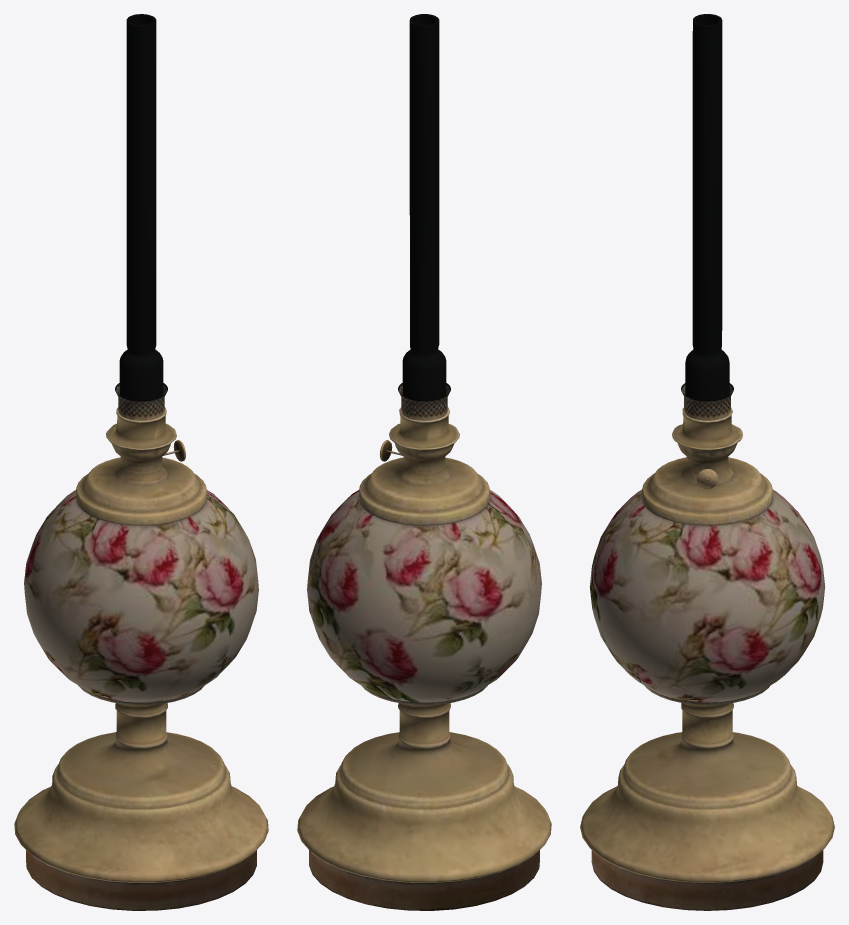
Rendered from vintage_oil_lamp.glb.
3 views of the same model, side by side, from view 1: azimuth 30°, elevation 25°; view 2: azimuth 150°, elevation 25°; view 3: azimuth 270°, elevation 25° (orthographic).
Visible parts, largest first — view 1: vintage_oil_lamp, vintage_oil_lamp_glass; view 2: vintage_oil_lamp, vintage_oil_lamp_glass; view 3: vintage_oil_lamp, vintage_oil_lamp_glass.
Part boxes in pixels (x1,y1,x2,y2): vintage_oil_lamp: (14,407,268,910); vintage_oil_lamp_glass: (115,14,167,420); vintage_oil_lamp: (297,407,551,910); vintage_oil_lamp_glass: (398,14,450,420); vintage_oil_lamp: (580,407,834,910); vintage_oil_lamp_glass: (681,14,733,420).
Size of the model in its own units: 0.22 by 0.8016 by 0.22.
Materials: 3 (3 with a texture image).
